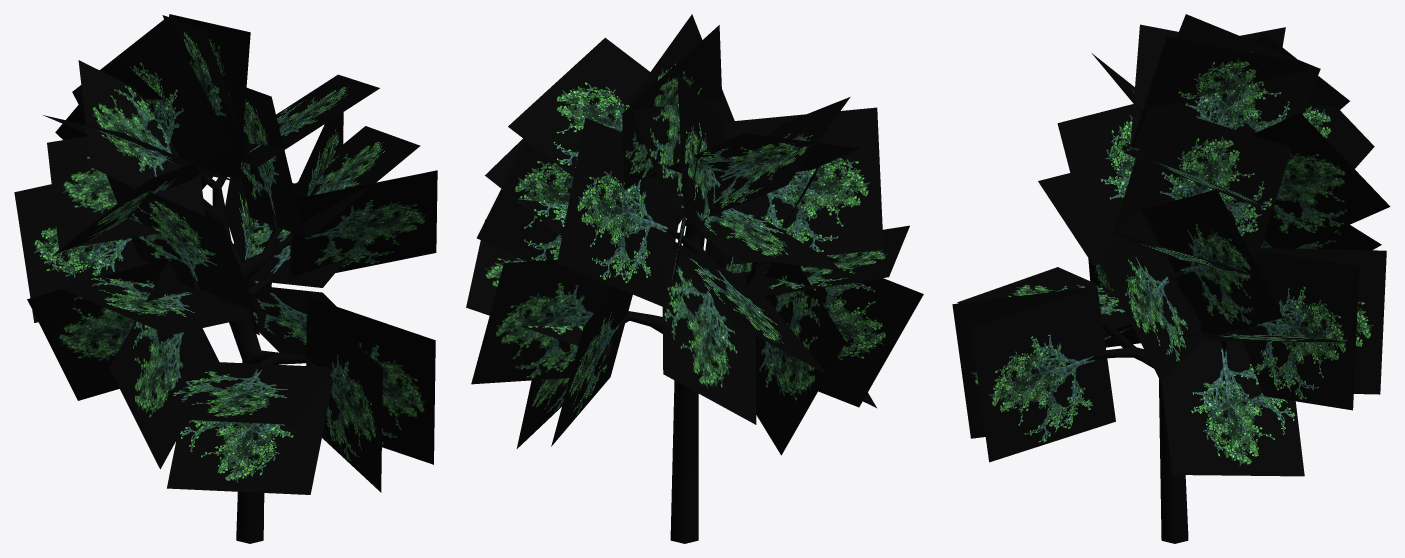
Rendered from tree61.glb.
3 views of the same model, side by side, from view 1: azimuth 30°, elevation 25°; view 2: azimuth 150°, elevation 25°; view 3: azimuth 270°, elevation 25° (orthographic). The views are drawn at different scales.
Size of the model in its own units: 5.27 by 6.85 by 5.4.
2 materials, 1 textured.
